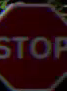Stop: (2, 3, 64, 90)
